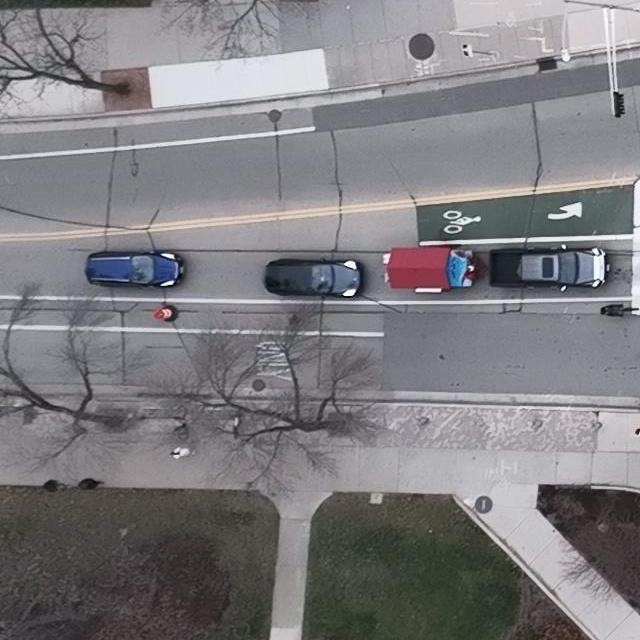car: (489, 245, 610, 292), (382, 246, 485, 294), (264, 257, 365, 299), (85, 251, 186, 289)
